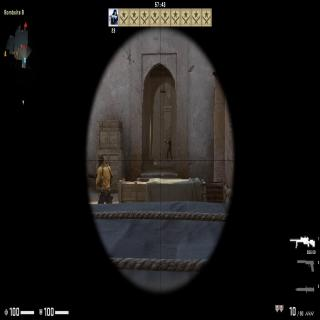T-Body: (94, 154, 114, 204), (166, 135, 172, 157)
T-Head: (98, 156, 105, 168), (168, 135, 170, 139)
